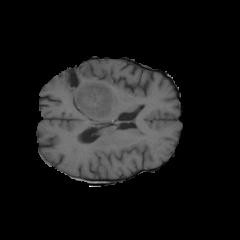glioma: (58, 72, 123, 120)
